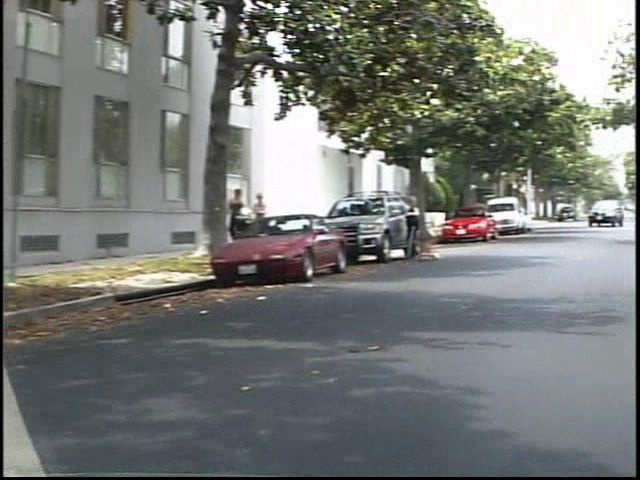person: (418, 193, 449, 268), (240, 184, 267, 252), (264, 189, 286, 249)
